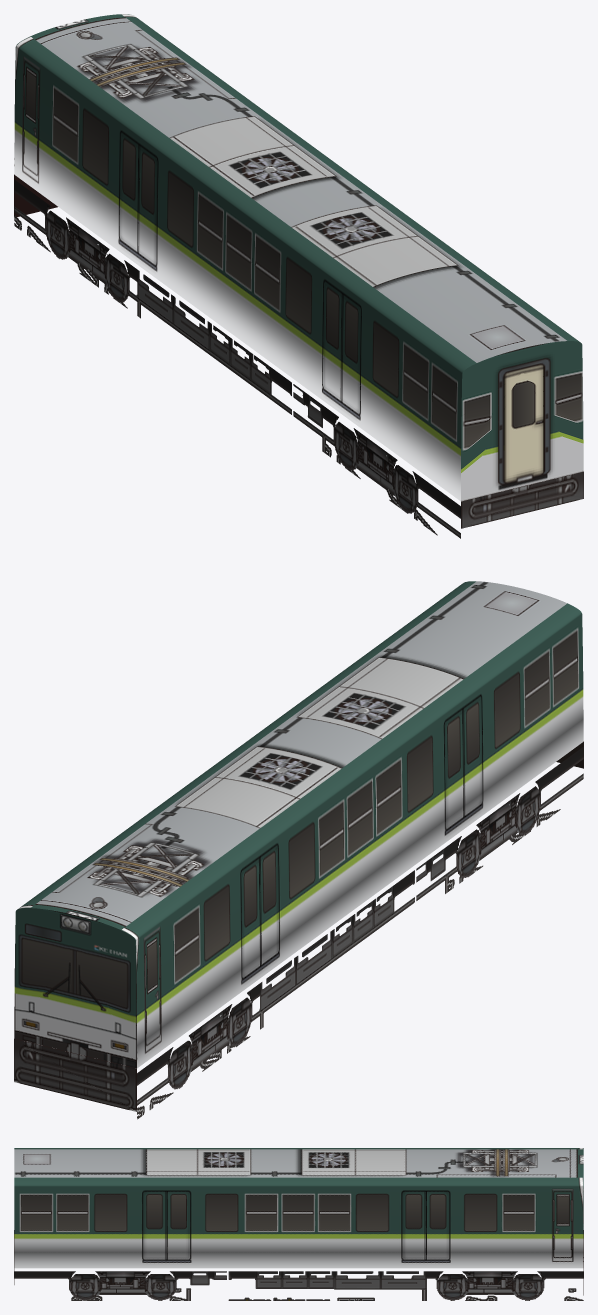
The model's file is car2.glb.
The picture shows the model from 3 angles, top to bottom: view 1: azimuth 30°, elevation 25°; view 2: azimuth 150°, elevation 25°; view 3: azimuth 270°, elevation 25°; orthographic projection. The views are drawn at different scales.
Visible parts, largest first — view 1: keihan600-car2; view 2: keihan600-car2; view 3: keihan600-car2.
Part boxes in pixels (x1=…): keihan600-car2: x1=14, y1=14, x2=583, y2=538; keihan600-car2: x1=14, y1=581, x2=583, y2=1119; keihan600-car2: x1=14, y1=1148, x2=583, y2=1300.
Size of the model in its own units: 2.38 by 3.51 by 15.03.
Materials: 9 (8 with a texture image).
